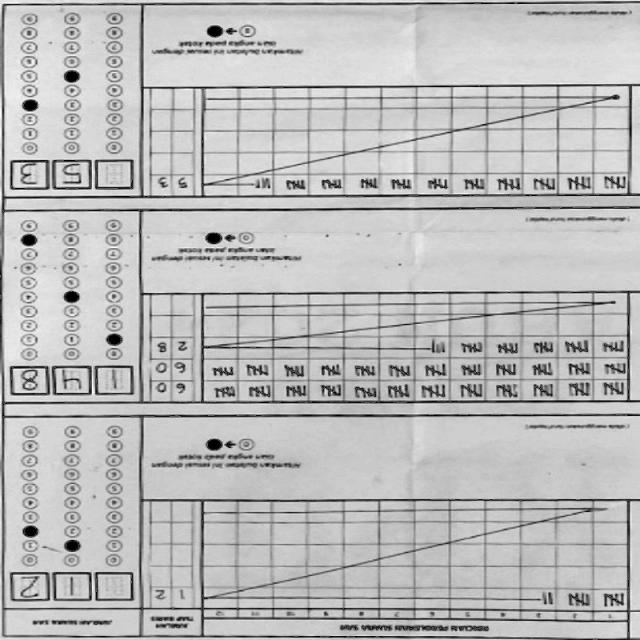Suara: (8, 156, 139, 197), (8, 567, 138, 608), (9, 362, 140, 402)
